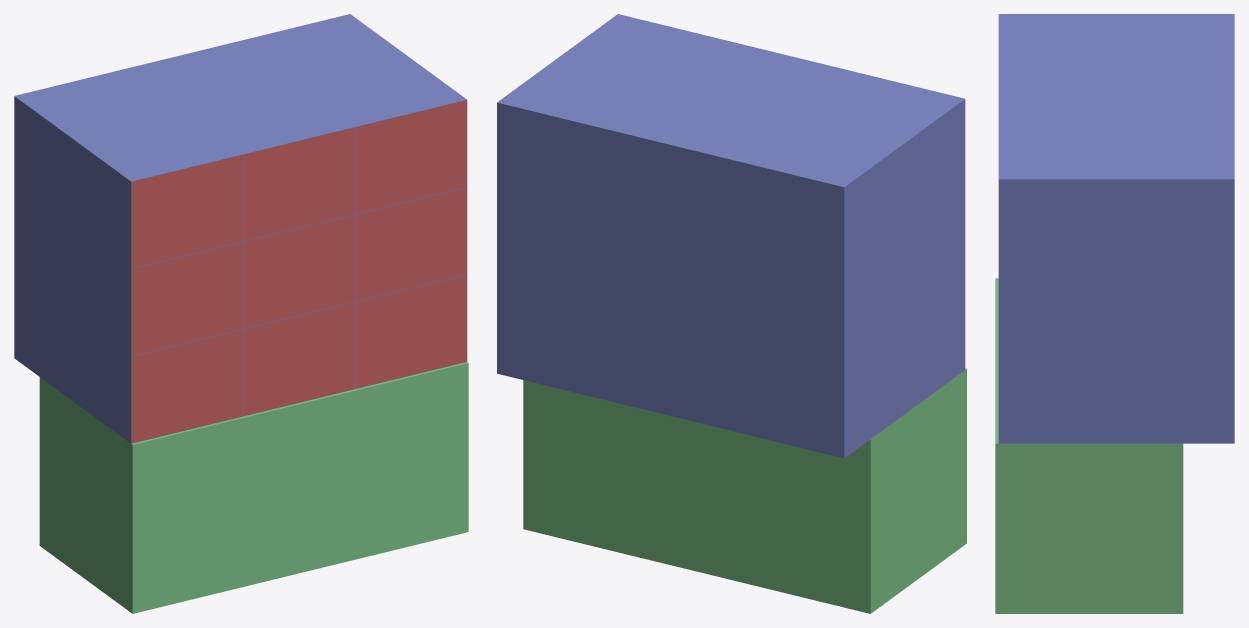
File: TV SET.fbx
The picture shows the model from 3 angles, left to right: view 1: azimuth 30°, elevation 25°; view 2: azimuth 150°, elevation 25°; view 3: azimuth 270°, elevation 25°; orthographic projection. The views are drawn at different scales.
Parts seen in each view (by area): view 1: Empty_Mesh; view 2: Empty_Mesh; view 3: Empty_Mesh.
Boxes of the visible parts, box(x1,y1,x2,y2) form: Empty_Mesh: box(14, 14, 468, 613); Empty_Mesh: box(497, 14, 966, 613); Empty_Mesh: box(995, 14, 1234, 613).
Bounding box in the file's own units: 5.24 × 6.43 × 3.2.
